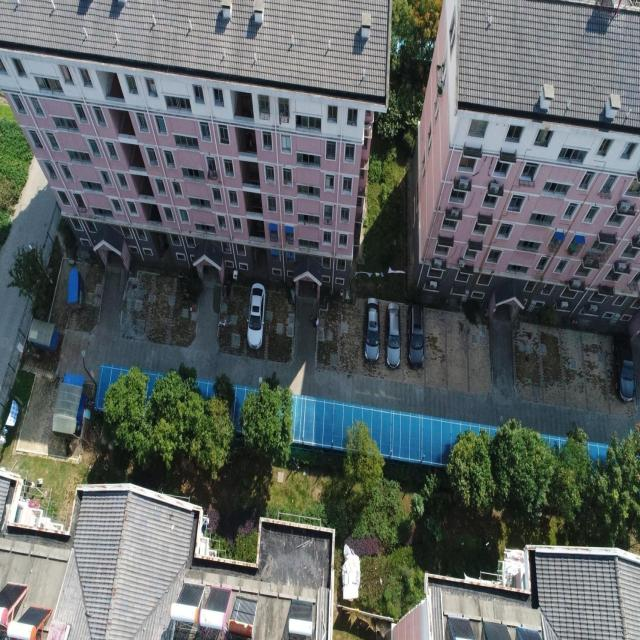p3rson: (313, 316, 319, 329), (28, 479, 36, 488), (23, 476, 28, 486)
